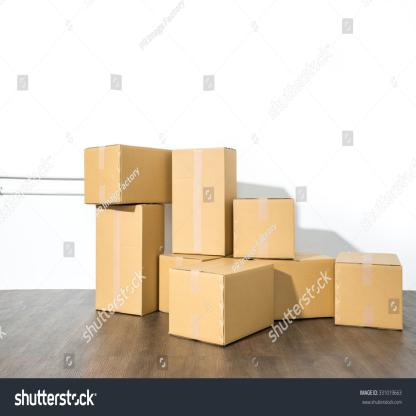box: (172, 146, 226, 256), (95, 204, 142, 315), (334, 261, 402, 330), (169, 267, 225, 347), (234, 197, 294, 260), (84, 145, 121, 204)
